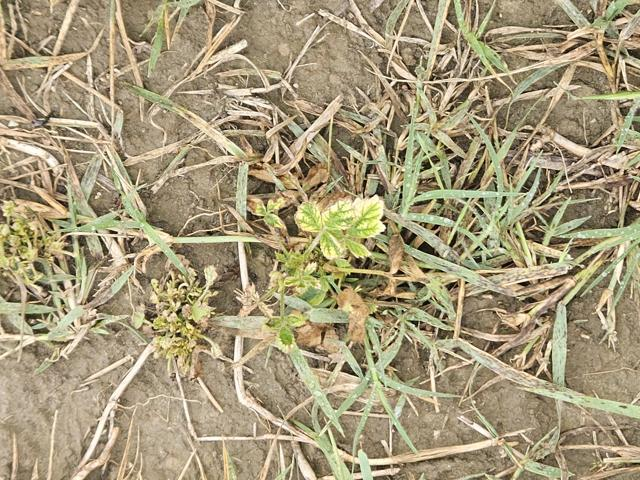bad weed: (257, 178, 399, 350), (138, 242, 229, 382), (10, 195, 60, 288)
